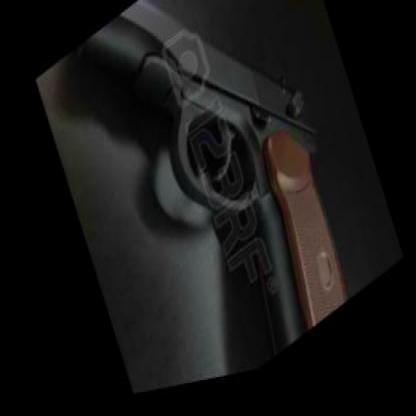pistol: (68, 0, 368, 402)
